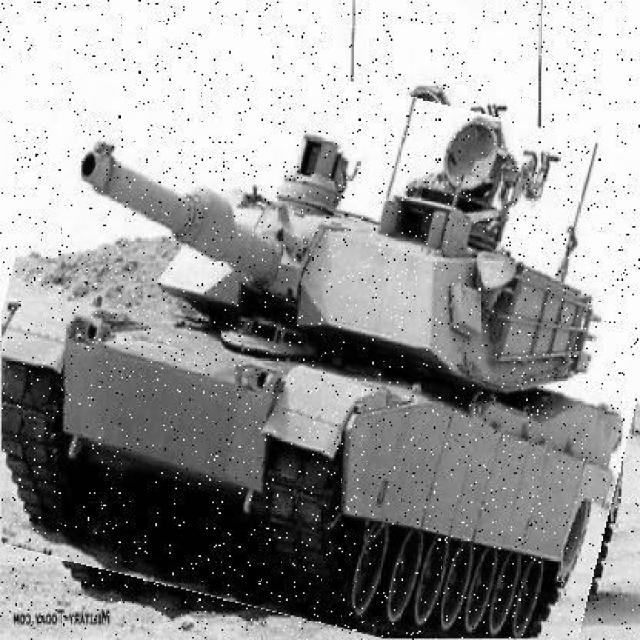Tank: (2, 48, 640, 639)
